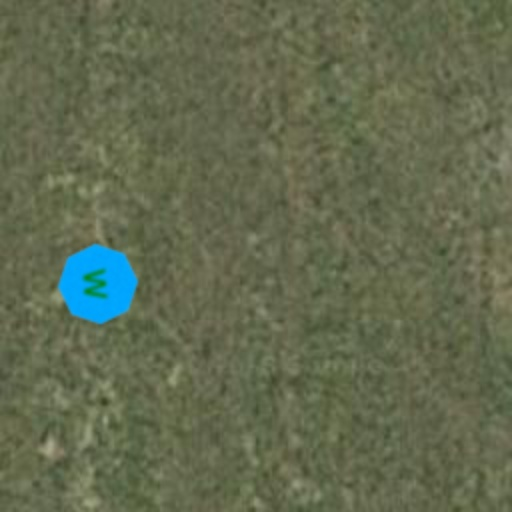octagon: (54, 240, 142, 328)
